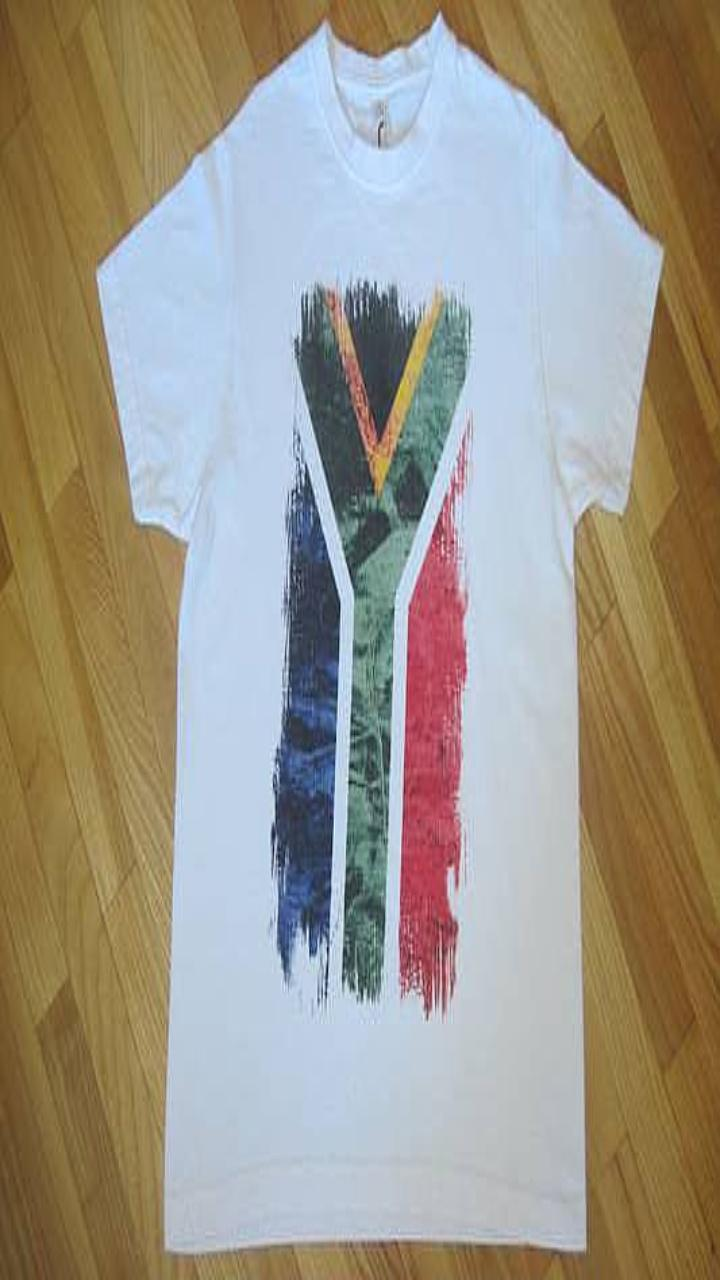T-Shirt: (97, 12, 662, 1252)
